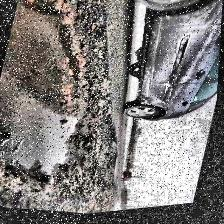pothole: (0, 0, 166, 224)
